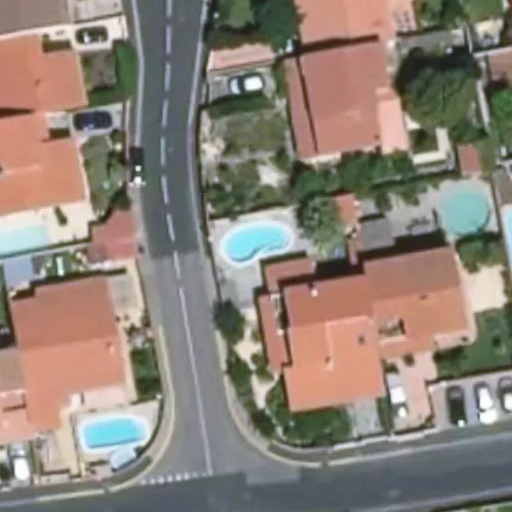pool: (215, 234, 296, 243)
